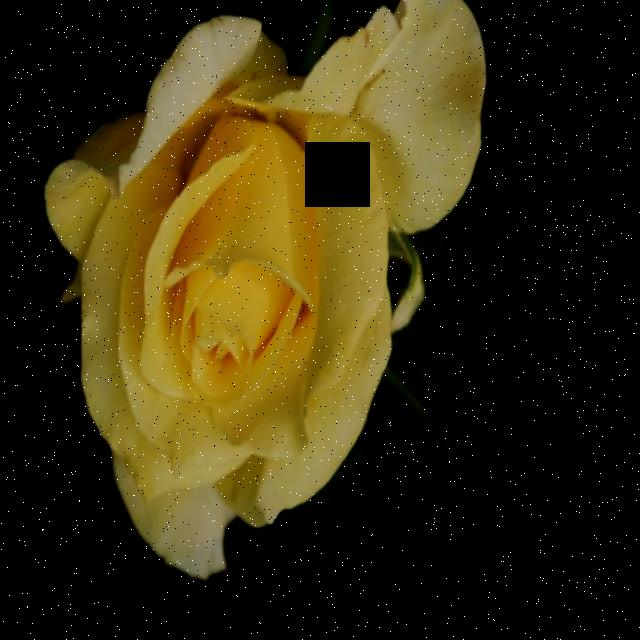rose: (9, 0, 501, 608)
